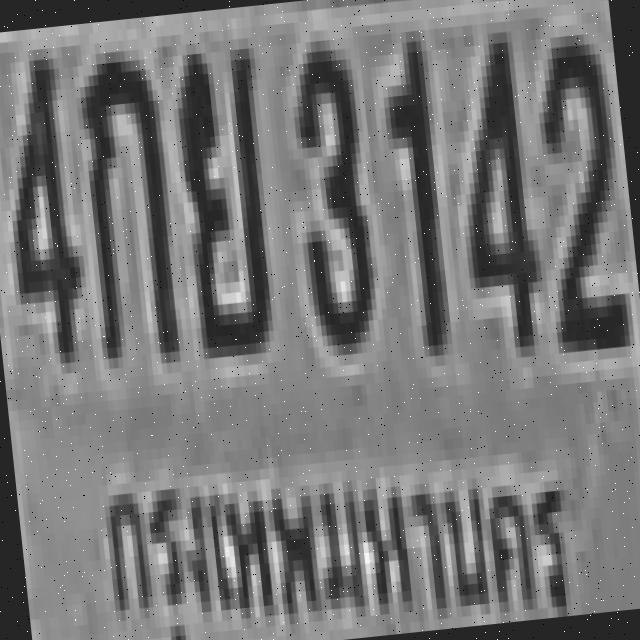1: (376, 25, 452, 342)
10GorGai: (70, 38, 179, 358)
2: (525, 22, 629, 343)
3: (280, 28, 375, 348)
4: (443, 21, 539, 351), (0, 37, 83, 357)
43YorYak: (166, 38, 278, 348)
Bangkok: (82, 407, 597, 640)
